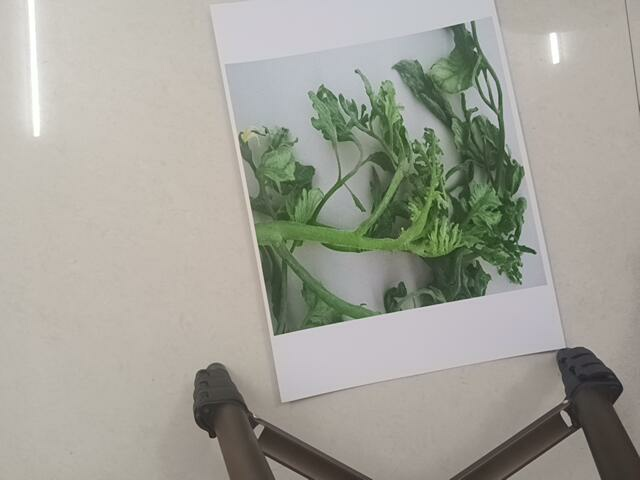Tomamto_Mosaic_virus: (234, 62, 537, 290)
